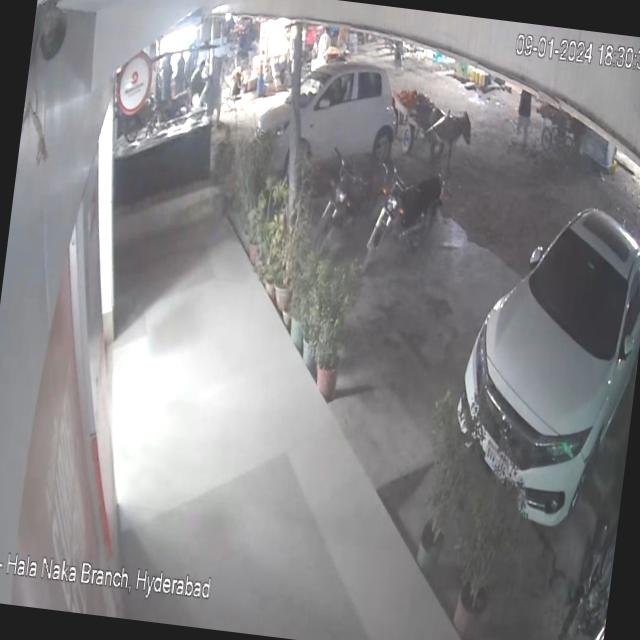Car: (442, 176, 640, 553), (249, 52, 420, 194)
Motorcycle: (364, 150, 452, 288), (306, 134, 390, 255)
